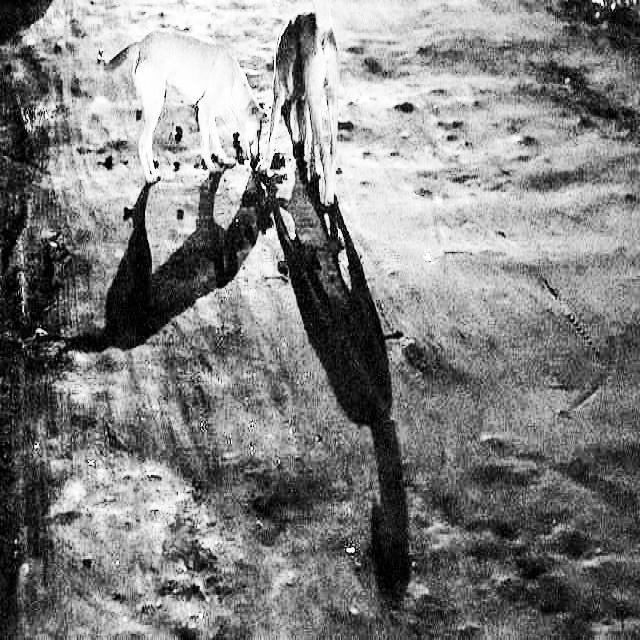Dog: (102, 16, 260, 182), (268, 10, 378, 196)
